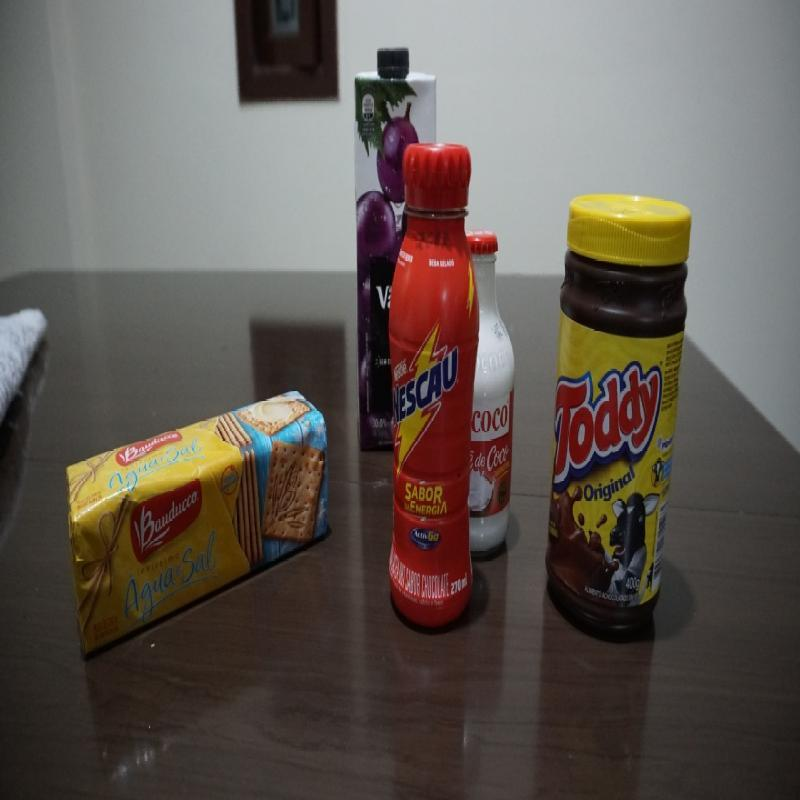Chocolate Milk: (384, 141, 482, 630)
Chocolate Powder: (541, 191, 696, 649)
Coconut Milk: (467, 227, 516, 552)
Cracker: (66, 388, 332, 664)
